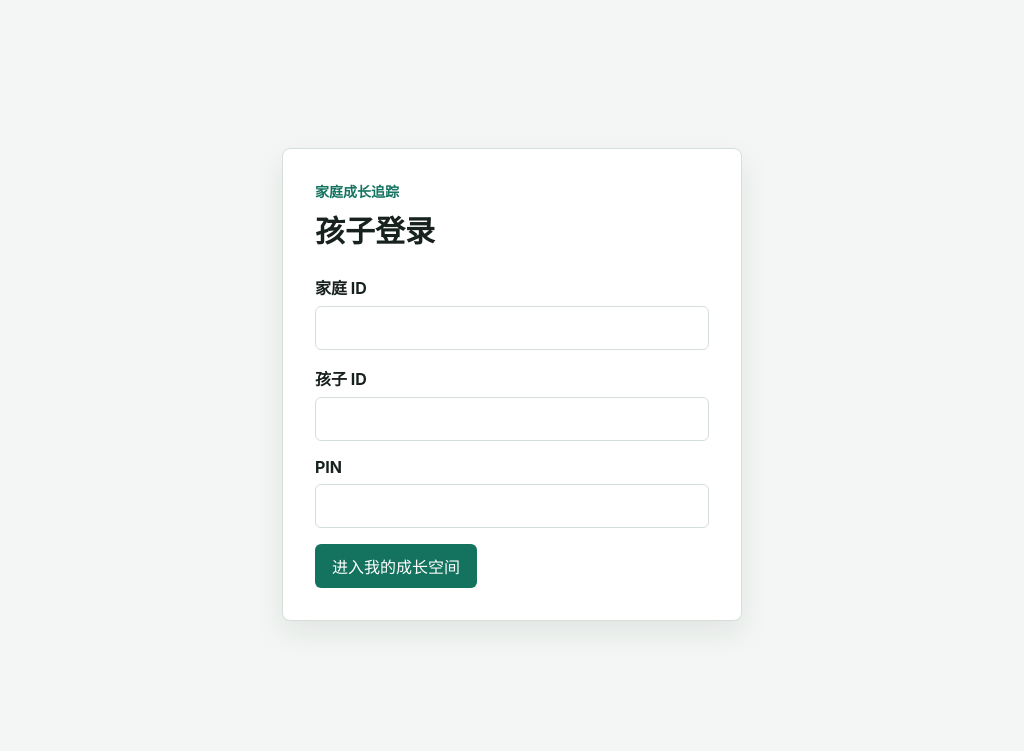
Test case: child PIN login › stores a child-only session, clears the PIN, and replaces the route after success
Type "family-a" into the field labelled "家庭 ID".
click(512, 328); type("family-a")  # box [315, 306, 709, 350]
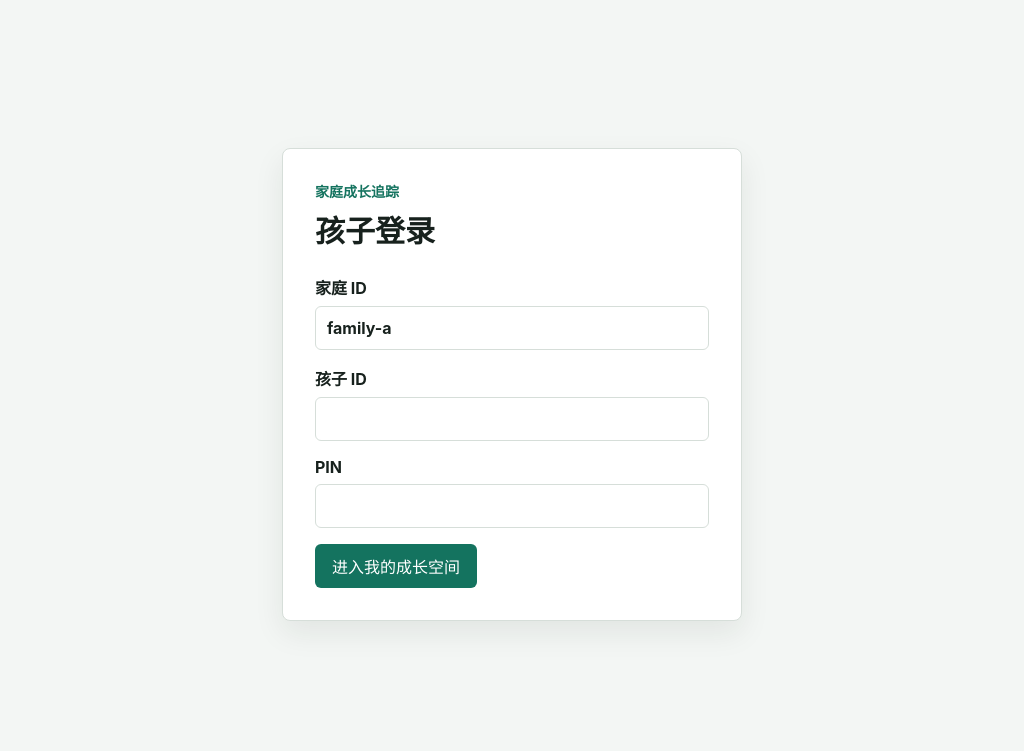
Type "child-a1" into the field labelled "孩子 ID".
click(512, 418); type("child-a1")  # box [315, 396, 709, 440]
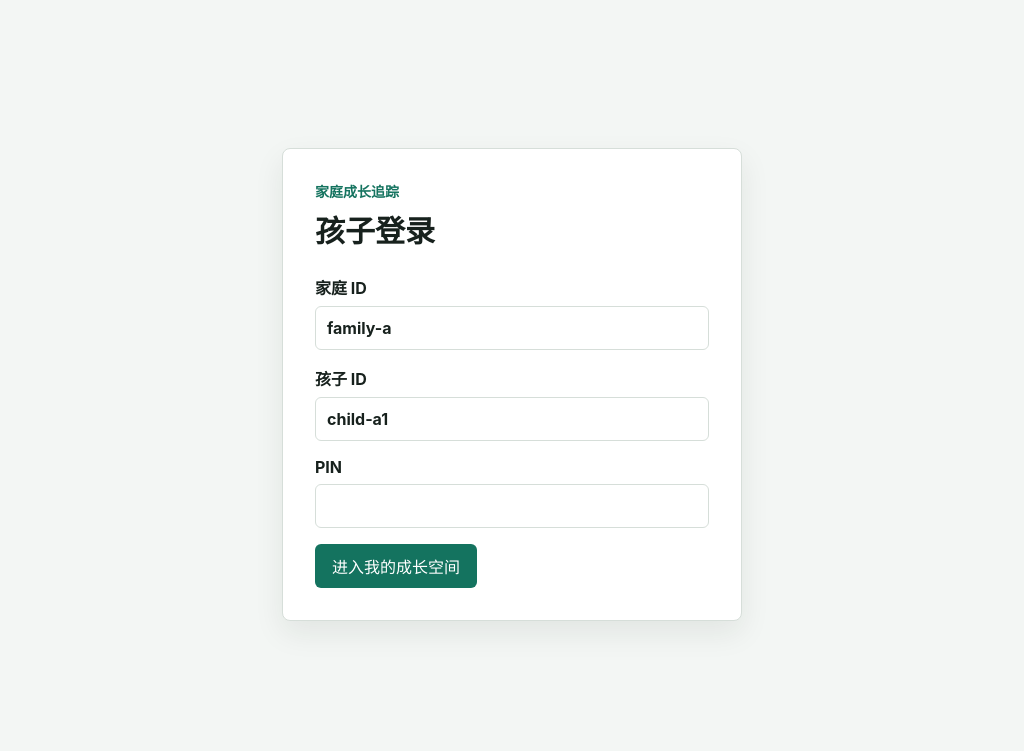
Type "1234" into the password field labelled "PIN".
click(512, 506); type("1234")  # box [315, 484, 709, 528]
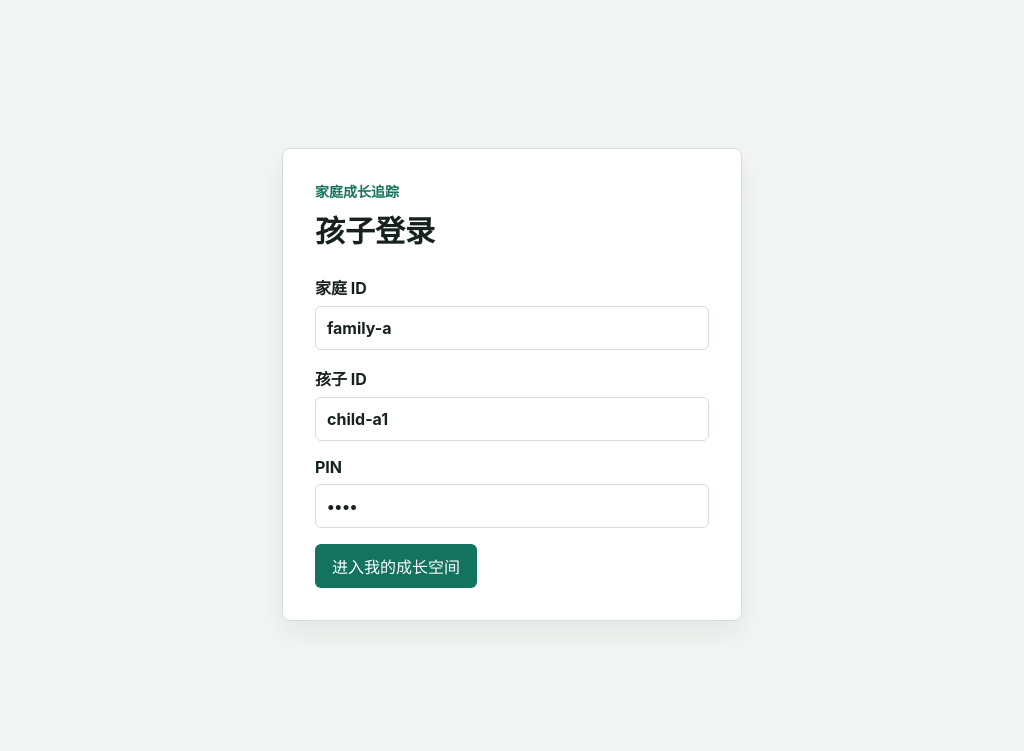
Click the button "进入我的成长空间".
click(396, 566)  # box [315, 544, 477, 588]
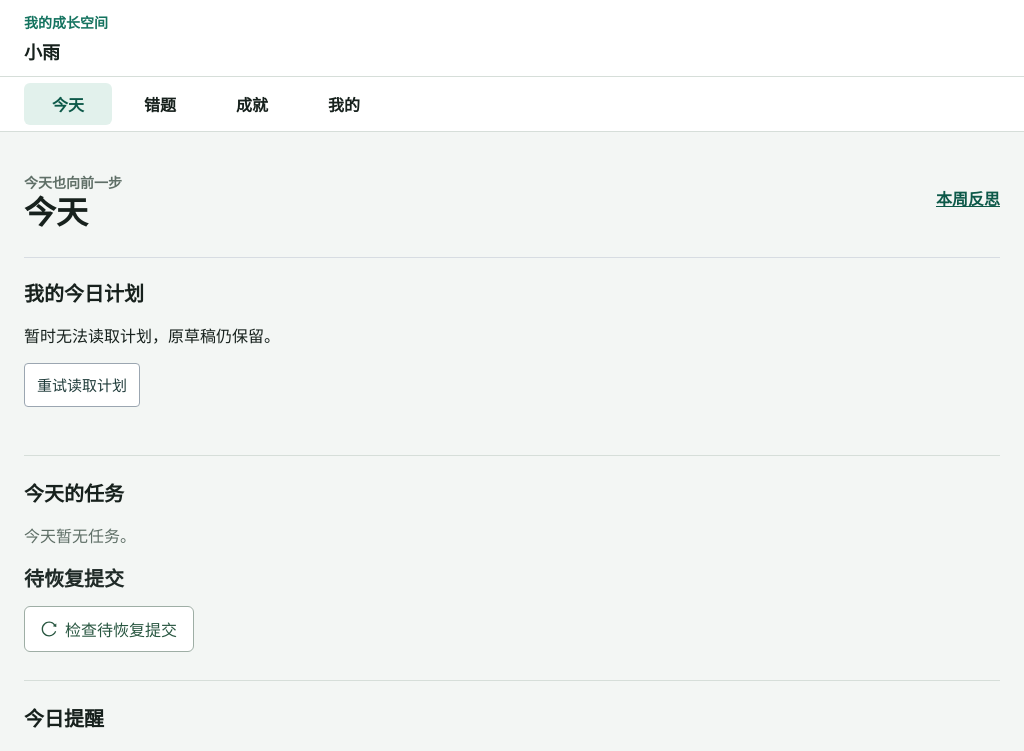
expect the heading "今天" is shown: met, box [24, 193, 88, 232]
